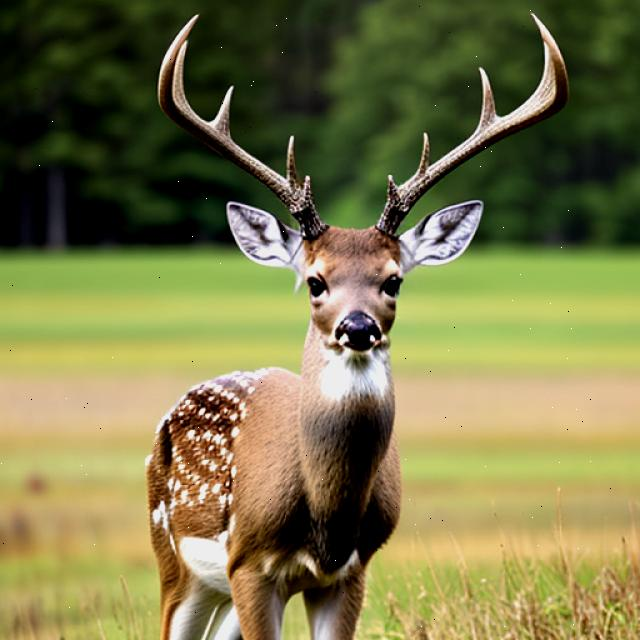deer: (147, 0, 553, 636)
